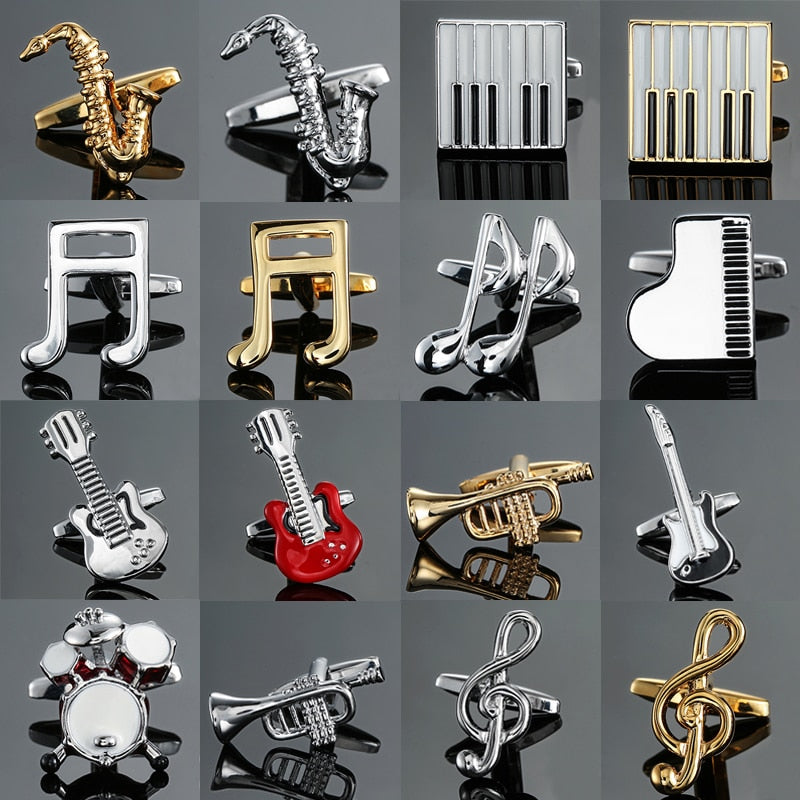Piano: (425, 7, 800, 231), (602, 200, 800, 423)
Saxophone: (129, 18, 415, 253), (364, 420, 686, 609), (1, 5, 232, 229)
